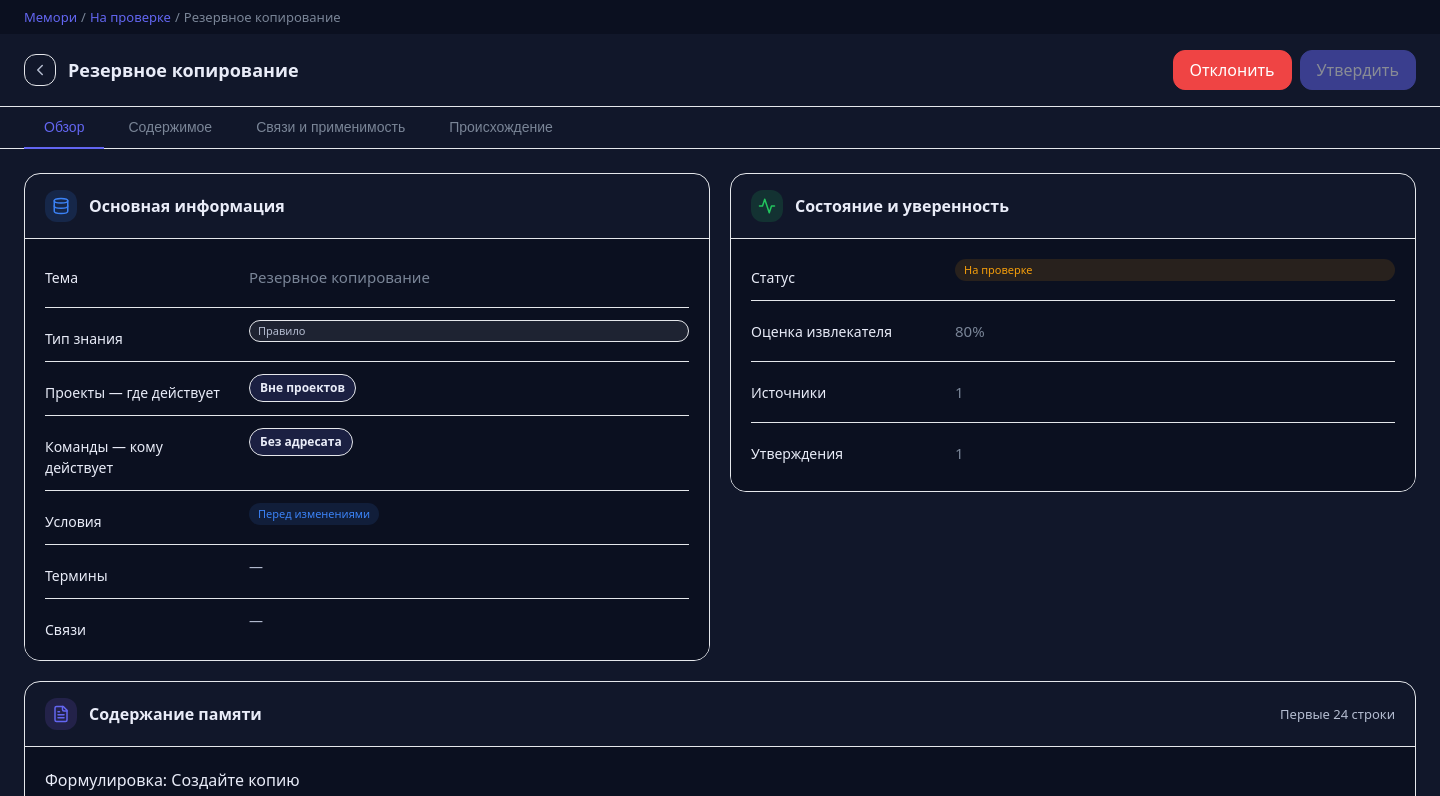
it: Общая карточка памяти › утверждает внепроектное знание с пустыми связями без чекбокса
The image size is (1440, 796).
Click the button "Связи и применимость" at (331,128), box [236, 107, 425, 149]
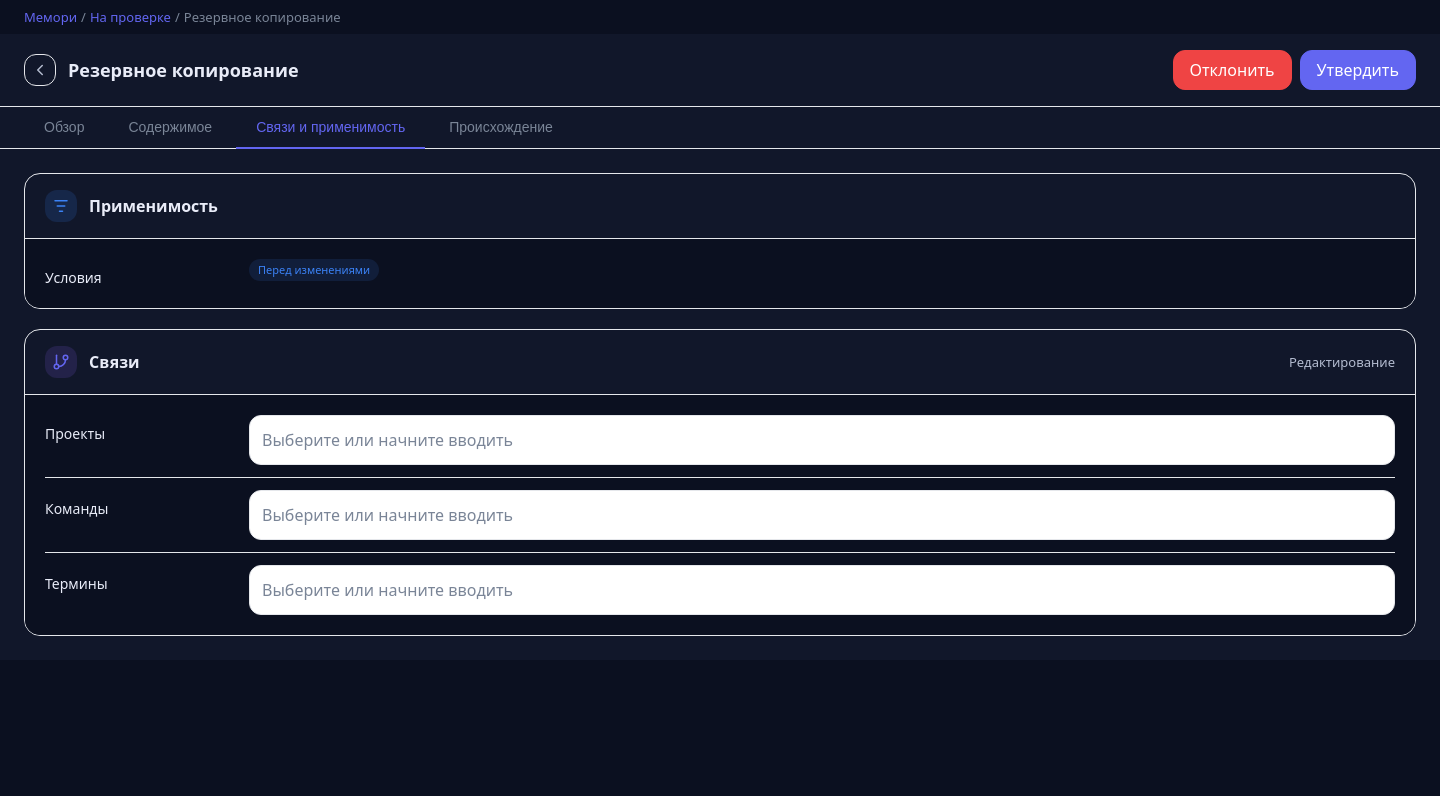
Check: the button "Утвердить" is enabled
Click the button "Утвердить" at (1358,70), box [1300, 50, 1416, 90]
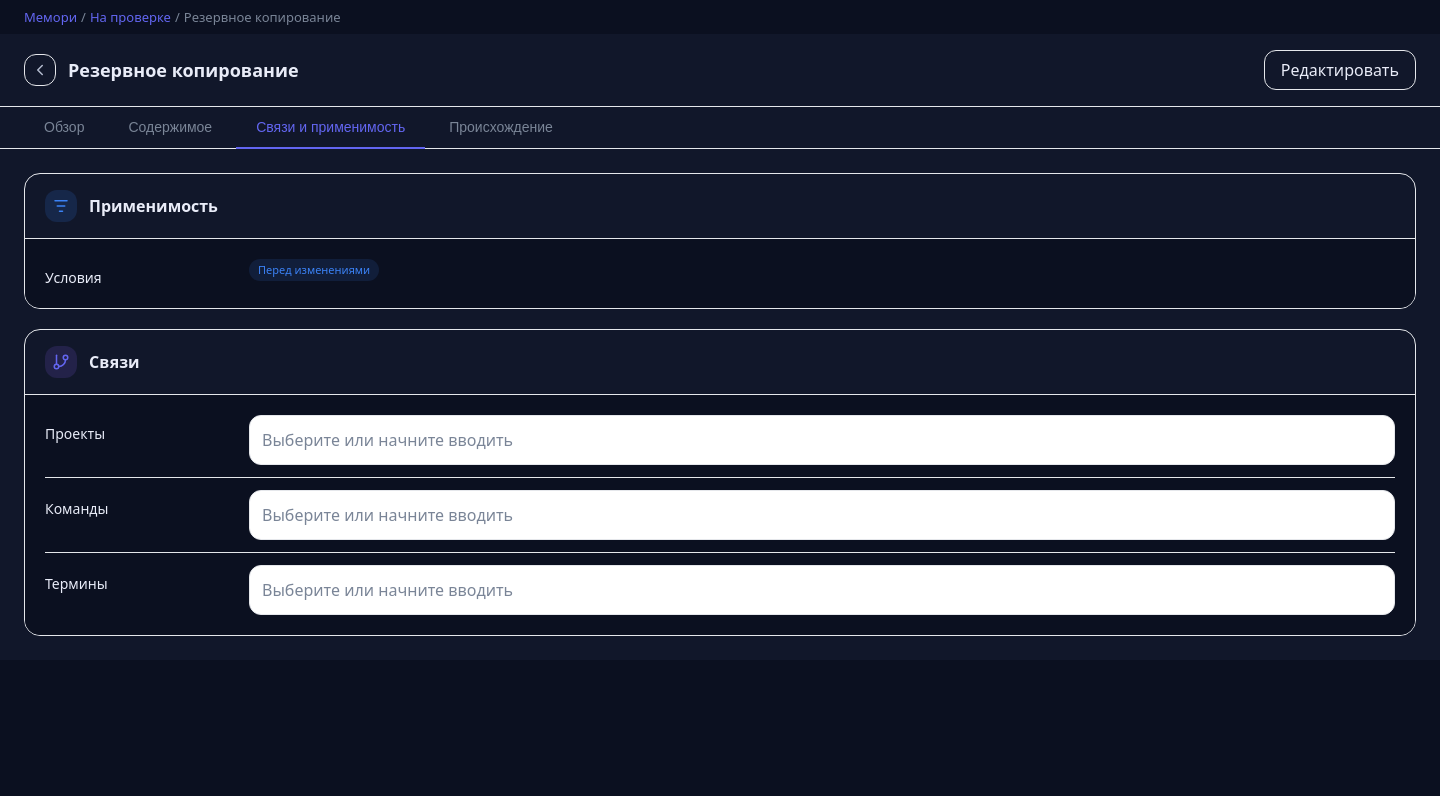
Check: the button "Утвердить" is gone
